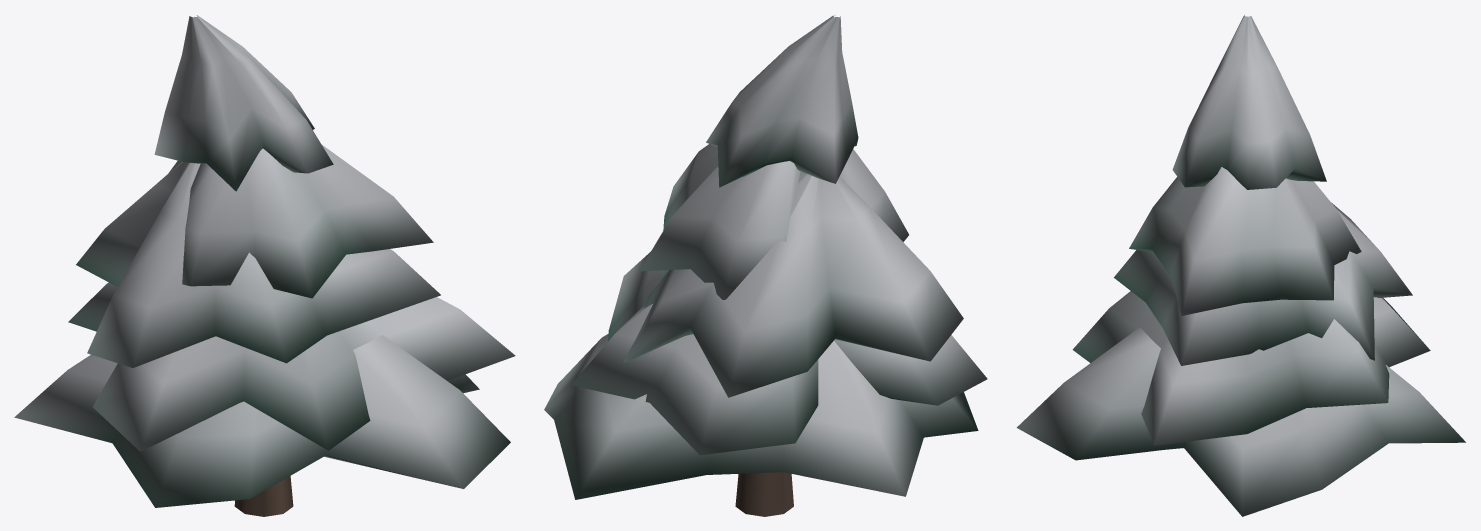
Rendered from winterbank-fir.glb.
The picture shows the model from 3 angles, left to right: view 1: azimuth 30°, elevation 25°; view 2: azimuth 150°, elevation 25°; view 3: azimuth 270°, elevation 25°; orthographic projection. The views are drawn at different scales.
Parts seen in each view (by area): view 1: Winterbank fir; view 2: Winterbank fir; view 3: Winterbank fir.
Boxes of the visible parts, x1,y1,x2,y2 form: Winterbank fir: (14, 15, 515, 516); Winterbank fir: (544, 15, 987, 516); Winterbank fir: (1016, 15, 1465, 516).
Size of the model in its own units: 0.8518 by 1.01 by 0.94.
